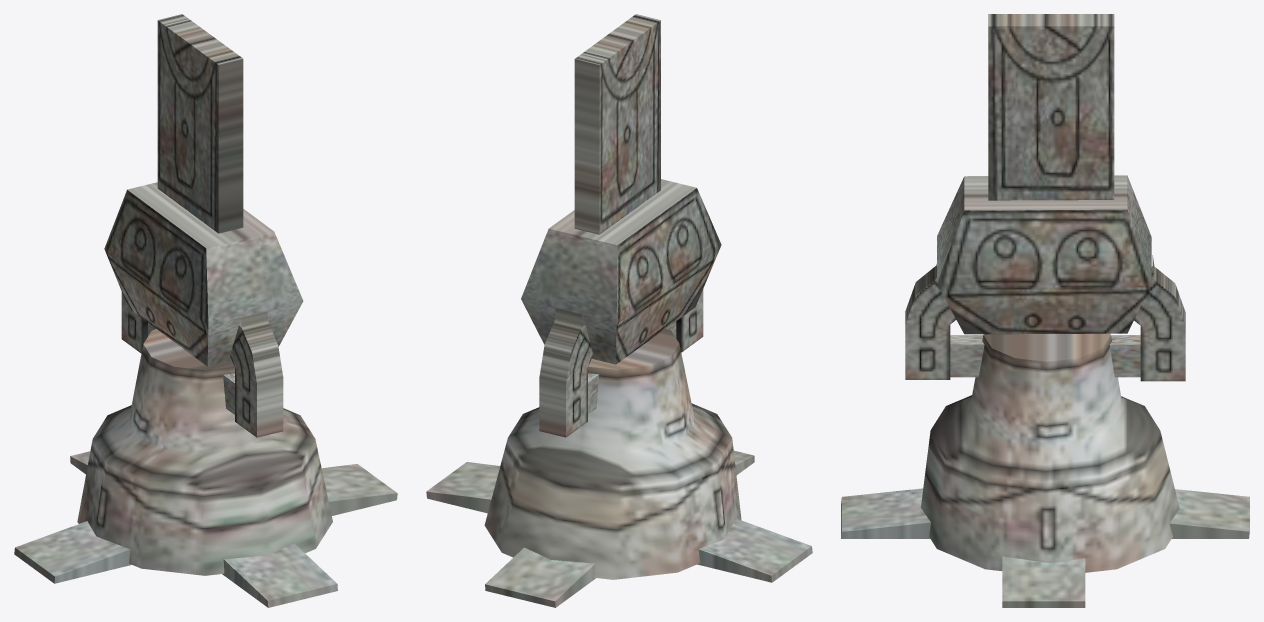
Rendered from legfrontlefttdown.fbx.
The picture shows the model from 3 angles, left to right: view 1: azimuth 30°, elevation 25°; view 2: azimuth 150°, elevation 25°; view 3: azimuth 270°, elevation 25°; orthographic projection. The views are drawn at different scales.
Parts seen in each view (by area): view 1: legfrontlefttdown; view 2: legfrontlefttdown; view 3: legfrontlefttdown.
Part boxes in pixels (x1,y1,x2,y2): legfrontlefttdown: (14, 14, 397, 607); legfrontlefttdown: (426, 14, 812, 607); legfrontlefttdown: (841, 14, 1249, 607).
Size of the model in its own units: 242 by 327 by 242.
